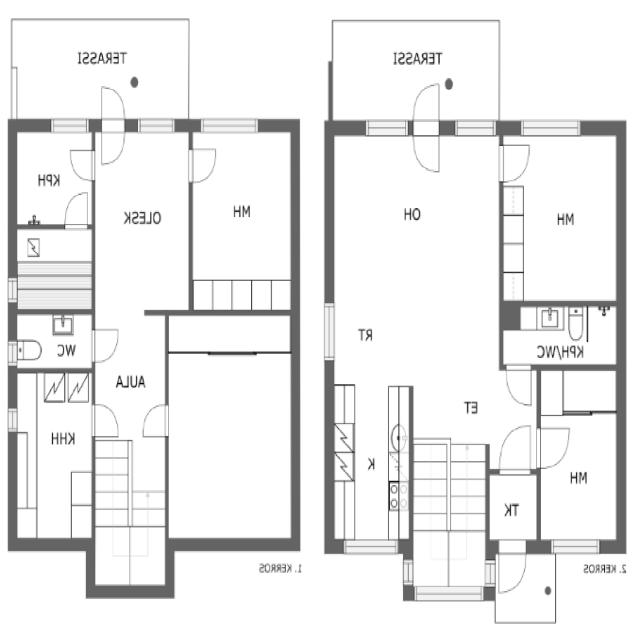door: (534, 376, 620, 546), (16, 128, 94, 232), (408, 81, 444, 177), (96, 84, 128, 170), (493, 420, 538, 480), (532, 418, 574, 474), (495, 538, 530, 598), (501, 361, 537, 413), (85, 322, 123, 368), (497, 138, 533, 185), (89, 398, 123, 445), (185, 144, 220, 189), (138, 400, 172, 446), (61, 187, 93, 234), (67, 144, 98, 188)
window: (544, 533, 608, 561), (518, 112, 586, 138), (197, 112, 265, 137), (413, 583, 492, 604), (339, 534, 406, 558), (359, 114, 412, 140), (131, 113, 181, 140), (46, 111, 92, 138), (321, 296, 337, 370), (451, 115, 500, 139), (400, 555, 416, 595), (5, 404, 21, 436), (6, 272, 20, 308), (4, 337, 18, 371)
zone: (324, 122, 507, 413), (164, 345, 296, 545), (500, 128, 618, 305), (189, 124, 295, 312), (93, 127, 191, 312), (535, 371, 620, 549), (12, 370, 94, 542), (328, 386, 412, 545), (14, 125, 93, 229), (498, 304, 620, 367), (12, 227, 96, 312), (11, 311, 94, 372), (488, 472, 540, 546)
